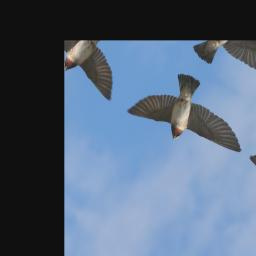Swallow: (126, 54, 256, 177)
